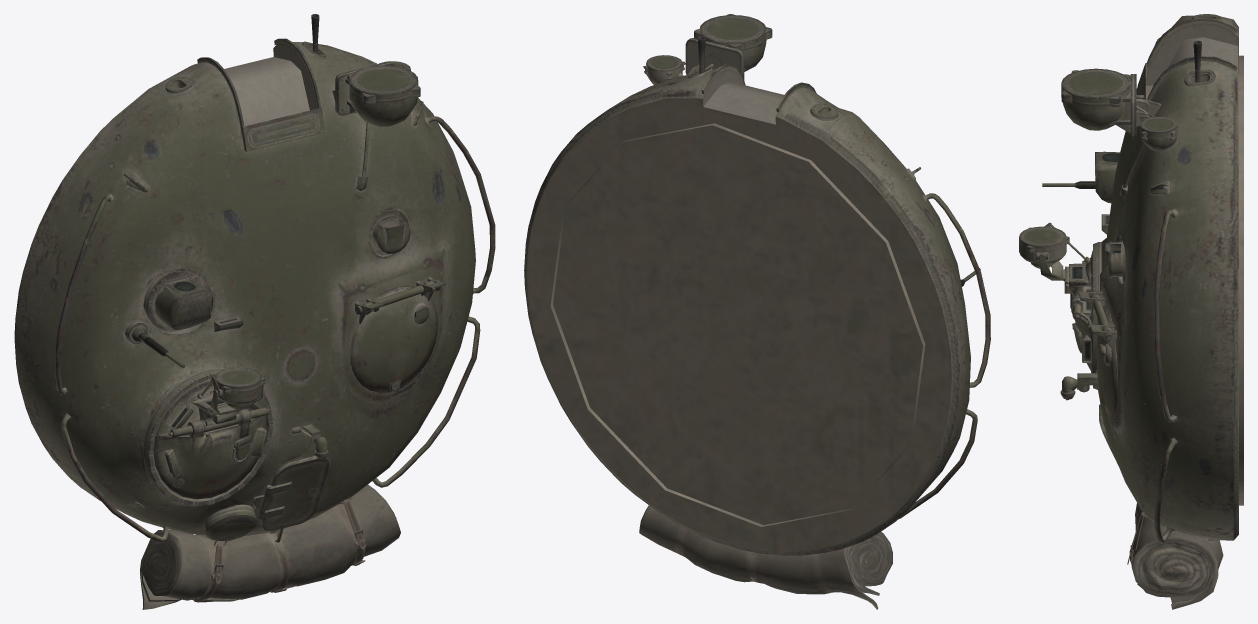
Rendered from Turret_01.glb.
The picture shows the model from 3 angles, left to right: view 1: azimuth 30°, elevation 25°; view 2: azimuth 150°, elevation 25°; view 3: azimuth 270°, elevation 25°; orthographic projection. The views are drawn at different scales.
Parts seen in each view (by area): view 1: set_0_group_0; view 2: set_0_group_0; view 3: set_0_group_0.
Part boxes in pixels (x1=…): set_0_group_0: x1=14, y1=14, x2=495, y2=609; set_0_group_0: x1=524, y1=14, x2=990, y2=609; set_0_group_0: x1=1019, y1=14, x2=1243, y2=609.
Size of the model in its own units: 2.61 by 3.09 by 1.13.
1 material, 1 textured.
